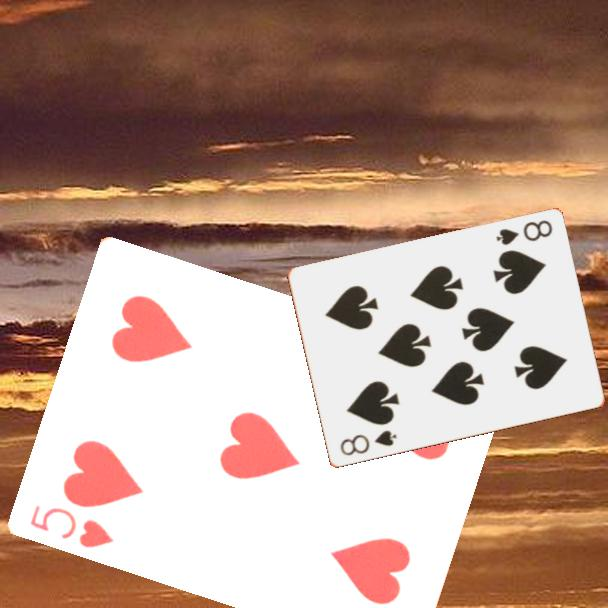h05: (26, 501, 116, 552)
s08: (336, 427, 400, 459), (492, 217, 555, 248)
